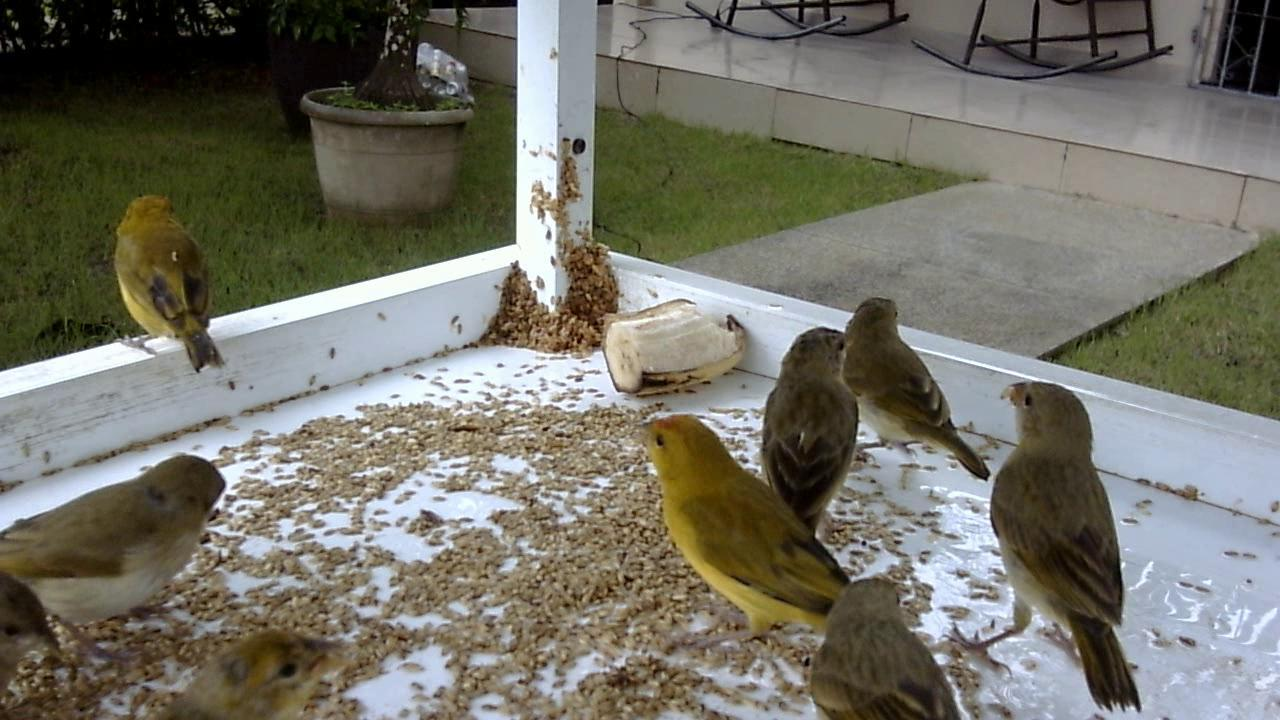canario_do_amazonas: (966, 379, 1149, 716), (635, 401, 863, 653), (1, 449, 231, 666), (833, 289, 1000, 485), (747, 315, 870, 559), (800, 556, 974, 720), (107, 616, 378, 718), (108, 193, 222, 378)
